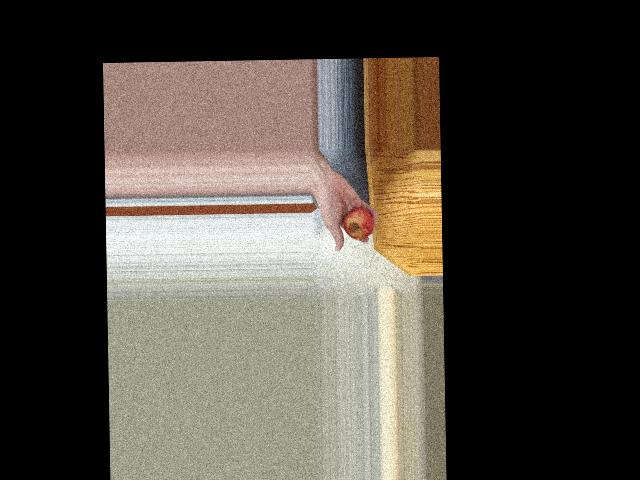apple: (339, 202, 375, 245)
